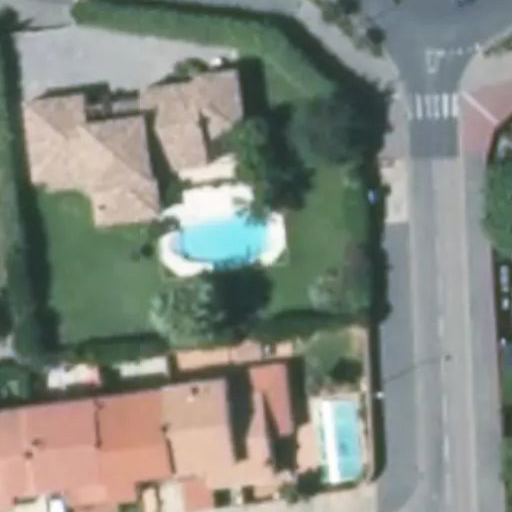pool: (202, 225, 308, 256)
